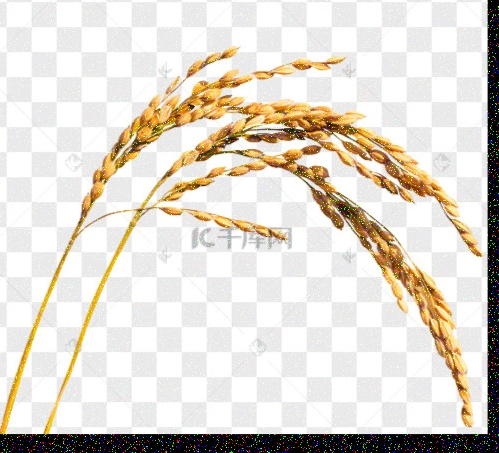rice: (127, 132, 471, 429), (66, 49, 482, 241)
